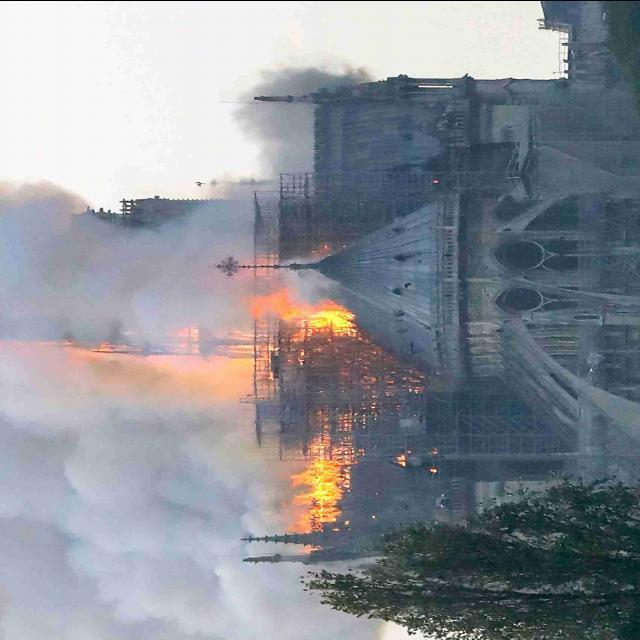Fire: (48, 306, 230, 368), (264, 453, 368, 547), (247, 272, 373, 332)
